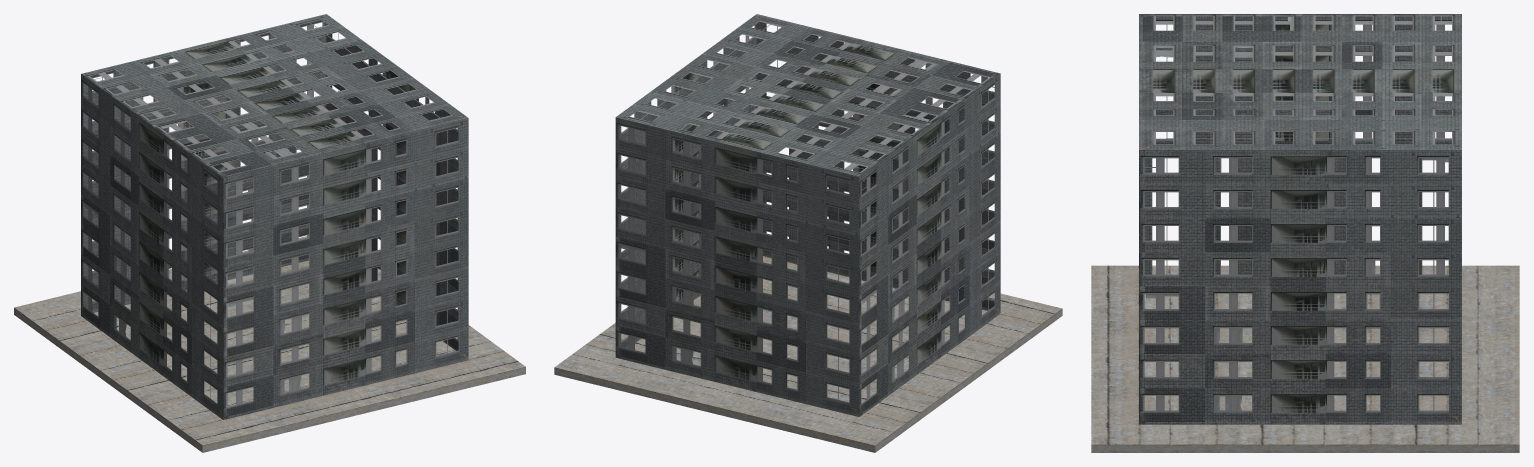
The model's file is BagSS07base_0.fbx.
3 views of the same model, side by side, from view 1: azimuth 30°, elevation 25°; view 2: azimuth 150°, elevation 25°; view 3: azimuth 270°, elevation 25° (orthographic). The views are drawn at different scales.
Parts seen in each view (by area): view 1: Box01, baseBase300; view 2: Box01, baseBase300; view 3: Box01, baseBase300.
Part boxes in pixels (box(x1,y1,x2,y2)): Box01: box(81, 14, 468, 419); baseBase300: box(14, 236, 525, 452); Box01: box(615, 14, 1000, 416); baseBase300: box(554, 256, 1062, 452); Box01: box(1139, 14, 1461, 424); baseBase300: box(1091, 265, 1519, 452).
Bounding box in the file's own units: 42.24 × 31.16 × 42.72.
